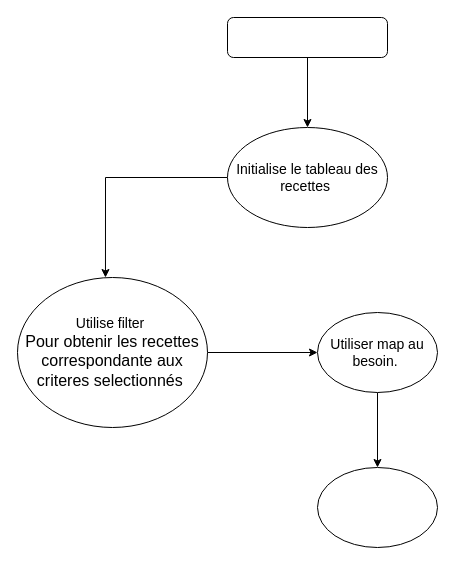
This 455x565 diagram has some shape labels left out. The centre of each missing label's shape, as x and y in pixels:
"Démarrer" goes at (307,37).
"Retourne le résultat" goes at (377,507).
